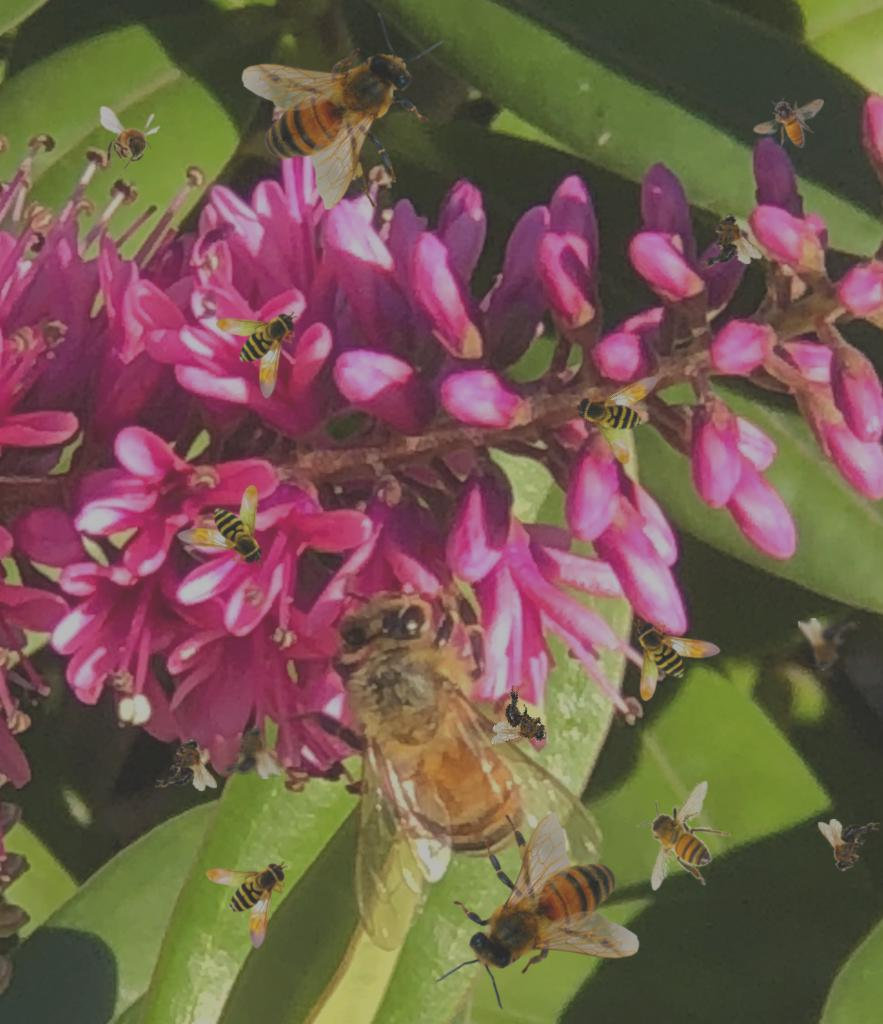Bee: (436, 812, 640, 1011), (241, 11, 445, 210), (568, 352, 688, 472), (637, 780, 731, 891), (177, 485, 265, 567), (633, 619, 721, 701), (216, 311, 298, 399), (206, 861, 288, 949), (487, 683, 560, 761), (692, 209, 763, 273), (100, 106, 161, 176), (753, 98, 824, 148), (155, 738, 217, 791), (818, 819, 880, 872), (219, 726, 281, 779), (798, 618, 860, 671)
